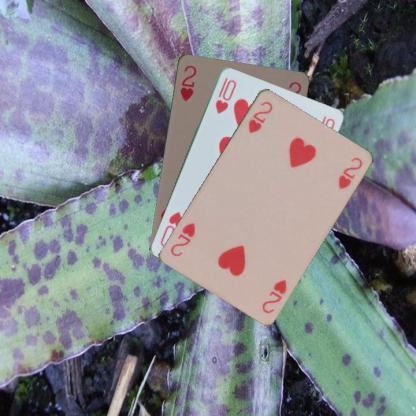10h: (212, 75, 237, 115)
2h: (259, 276, 288, 316), (245, 98, 274, 135), (178, 62, 198, 102)
